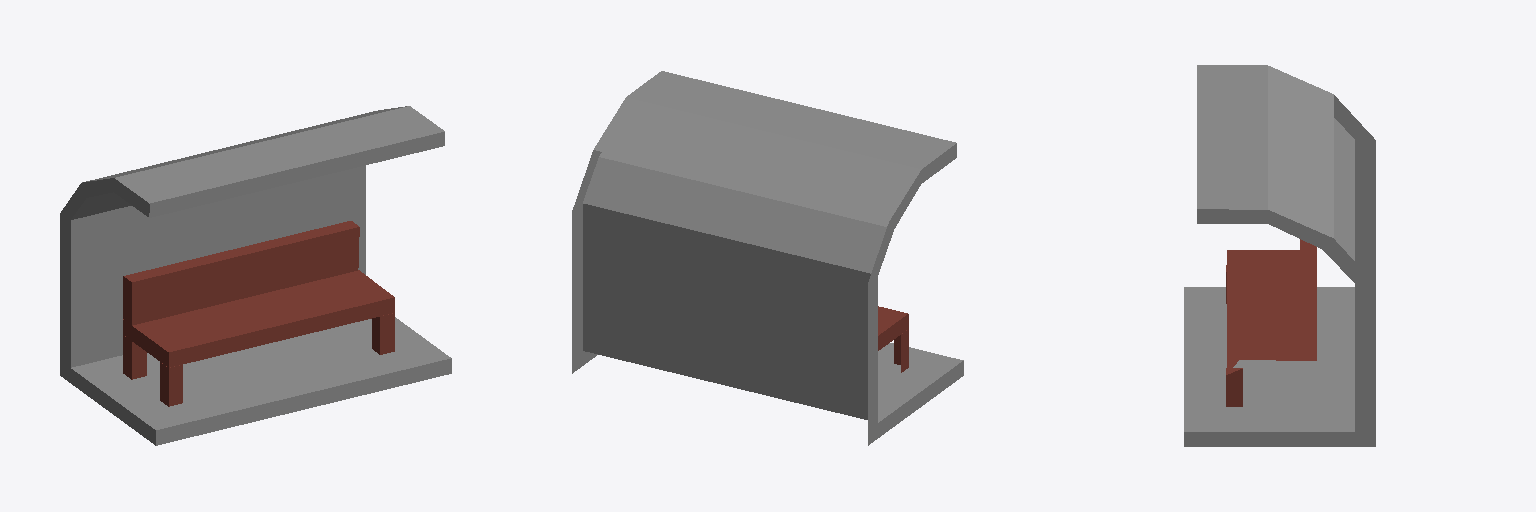
Rendered from Bus-stop.obj.
3 views of the same model, side by side, from view 1: azimuth 30°, elevation 25°; view 2: azimuth 150°, elevation 25°; view 3: azimuth 270°, elevation 25° (orthographic).
Visible parts, largest first — view 1: Cube.006_Cube.001, Cube.004_Cube.006, Cube.005_Cube.007, Cube.001_Cube.003, Cube.002_Cube.004, Cube; view 2: Cube.006_Cube.001, Cube.004_Cube.006; view 3: Cube.006_Cube.001, Cube.004_Cube.006, Cube.005_Cube.007, Cube.002_Cube.004.
Boxes of the visible parts, x1=… form: Cube.006_Cube.001: x1=60, y1=106, x2=451, y2=445; Cube.004_Cube.006: x1=123, y1=270, x2=394, y2=367; Cube.005_Cube.007: x1=123, y1=221, x2=359, y2=325; Cube.001_Cube.003: x1=160, y1=362, x2=182, y2=406; Cube.002_Cube.004: x1=372, y1=313, x2=394, y2=354; Cube: x1=123, y1=335, x2=146, y2=379; Cube.006_Cube.001: x1=572, y1=71, x2=963, y2=445; Cube.004_Cube.006: x1=878, y1=306, x2=908, y2=350; Cube.006_Cube.001: x1=1184, y1=65, x2=1375, y2=446; Cube.004_Cube.006: x1=1227, y1=250, x2=1316, y2=367; Cube.005_Cube.007: x1=1300, y1=239, x2=1316, y2=359; Cube.002_Cube.004: x1=1226, y1=368, x2=1242, y2=406.
Bounding box in the file's own units: 4 × 3.07 × 2.24.